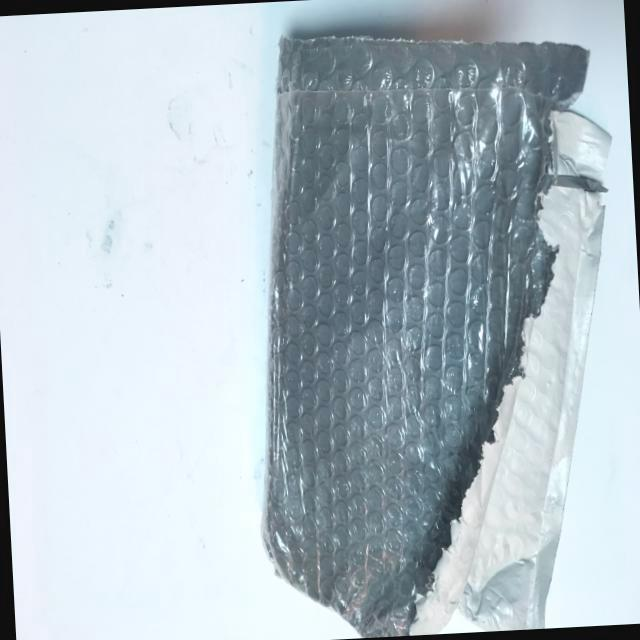plastic: (184, 0, 640, 640)
